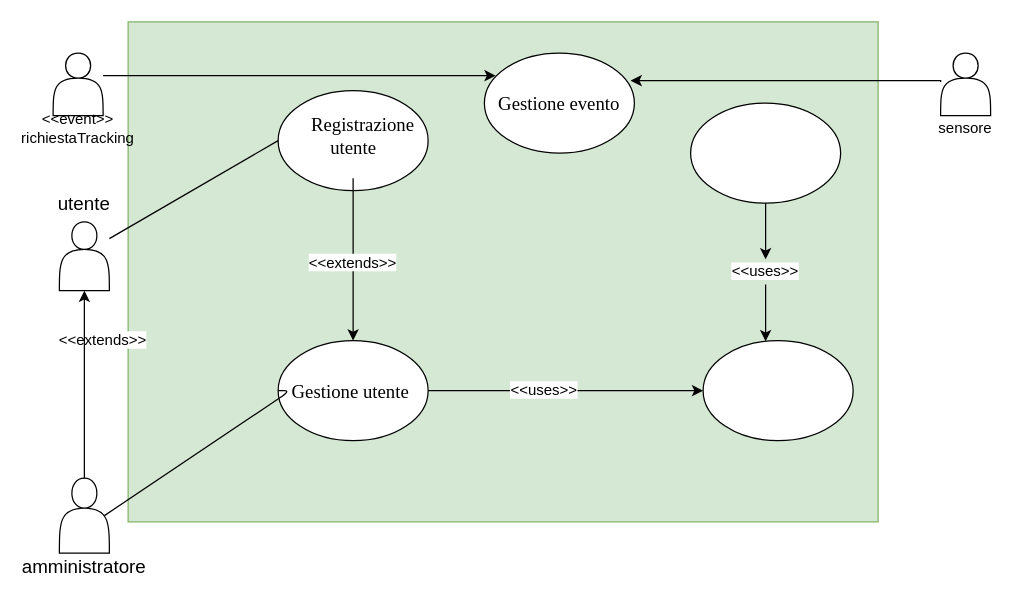
This 1014x600 diagram has some shape labels left out. The centre of each missing label's shape, as x and y in pixels:
"Autenticazione" belongs at (777,390).
"Storico" belongs at (765,152).
